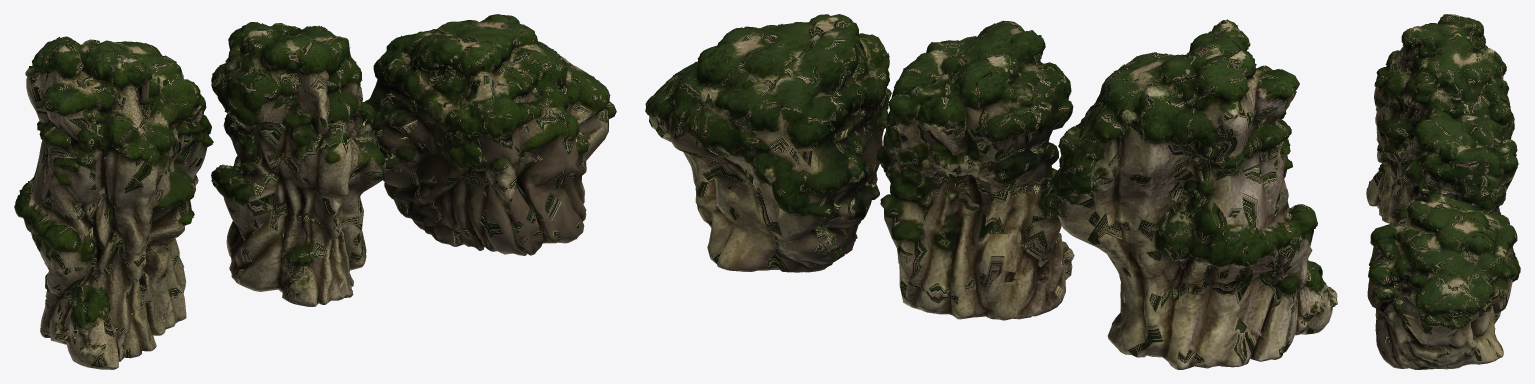
The model's file is Cliff_Formations.glb.
3 views of the same model, side by side, from view 1: azimuth 30°, elevation 25°; view 2: azimuth 150°, elevation 25°; view 3: azimuth 270°, elevation 25° (orthographic). The views are drawn at different scales.
Parts seen in each view (by area): view 1: Cliff_Formations; view 2: Cliff_Formations; view 3: Cliff_Formations.
Boxes of the visible parts, left/top/right/bottom form: Cliff_Formations: left=14, top=14, right=616, bottom=369; Cliff_Formations: left=645, top=14, right=1337, bottom=369; Cliff_Formations: left=1366, top=14, right=1520, bottom=369.
Bounding box in the file's own units: 1.9 × 0.8644 × 0.6249.
1 material, 1 textured.
